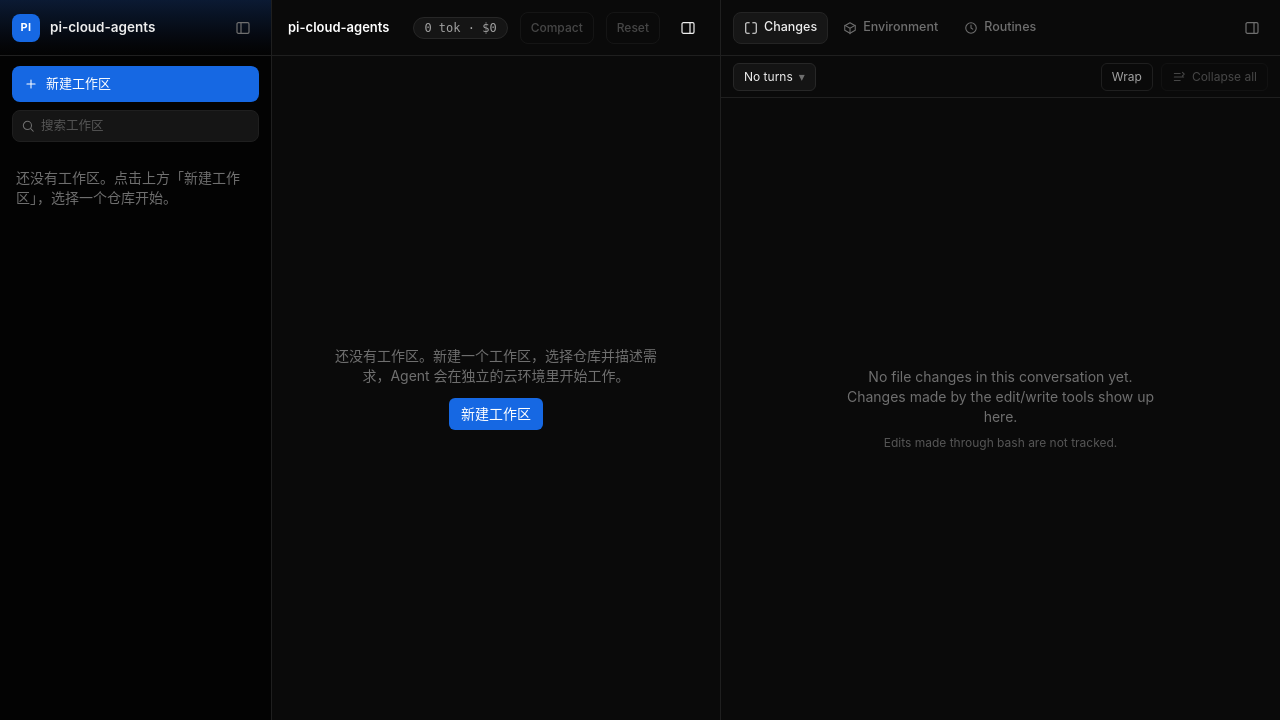
App › the 新建工作区 button opens the dialog
Expected: the text "还没有工作区。新建一个工作区，选择仓库并描述需求，Agent 会在独立的云环境里开始工作。" is shown, top-left (328, 346), bottom-right (664, 386)
Click the 1st button "新建工作区" at (136, 84), box top-left (12, 66), bottom-right (259, 102)
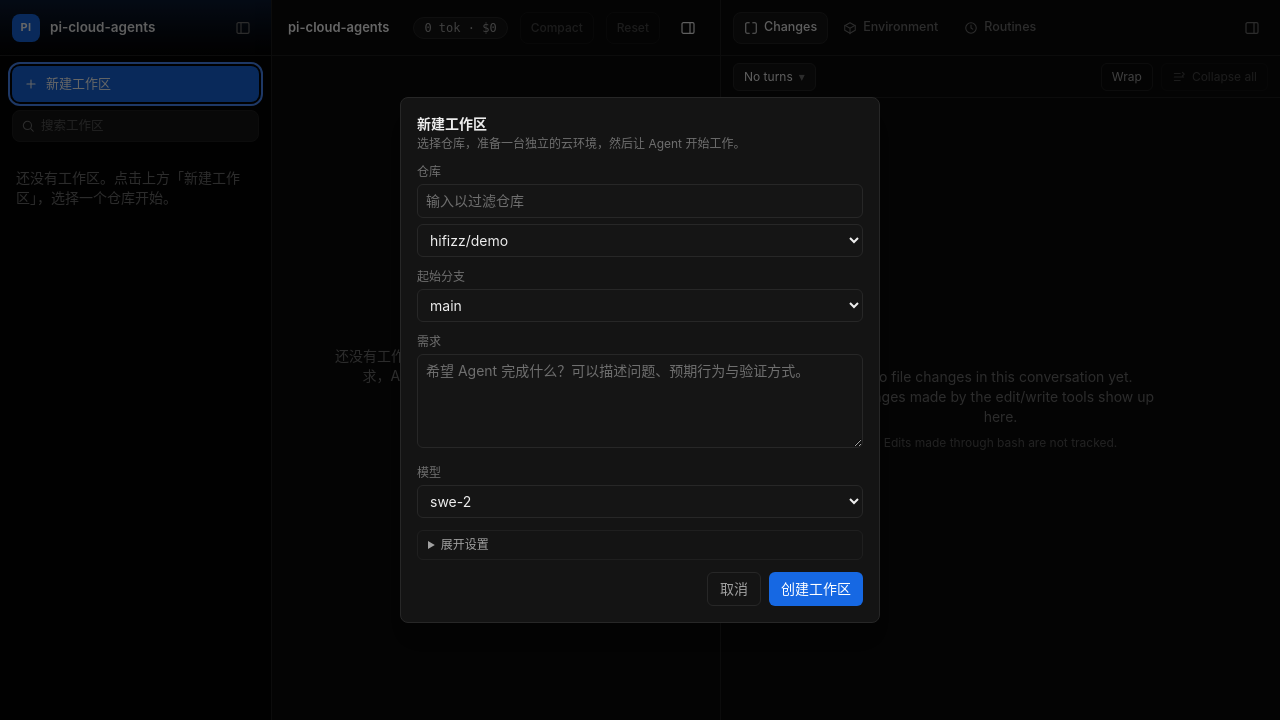
Result: the dialog "新建工作区" is shown at top-left (400, 97), bottom-right (880, 623)
